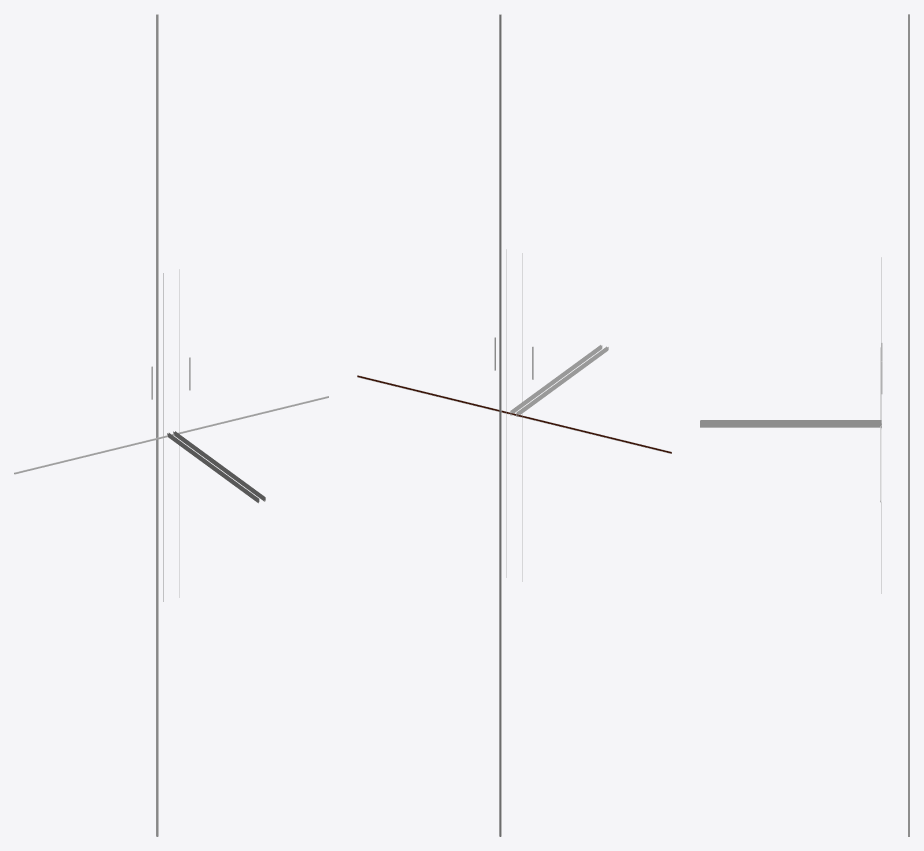
Rendered from Construction_KDA.fbx.
3 views of the same model, side by side, from view 1: azimuth 30°, elevation 25°; view 2: azimuth 150°, elevation 25°; view 3: azimuth 270°, elevation 25° (orthographic).
Visible parts, largest first — view 1: Construction_KDA; view 2: Construction_KDA; view 3: Construction_KDA.
Boxes of the visible parts, left/top/right/bottom form: Construction_KDA: left=14, top=14, right=328, bottom=836; Construction_KDA: left=357, top=14, right=671, bottom=836; Construction_KDA: left=700, top=14, right=909, bottom=836.
Size of the model in its own units: 200 by 500 by 116.
